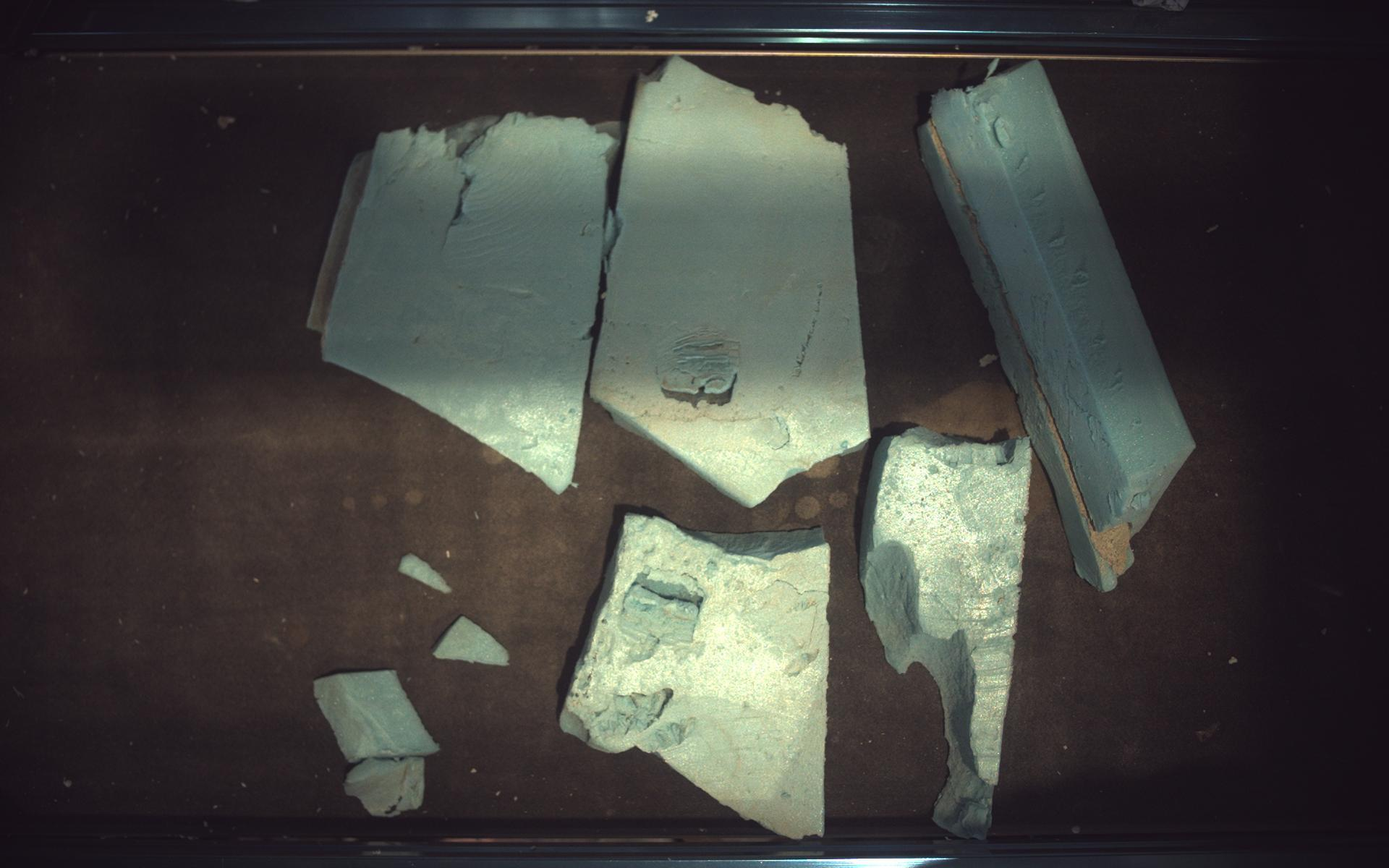foam: (922, 59, 1197, 592), (592, 56, 870, 507), (307, 111, 620, 493), (561, 514, 831, 840), (862, 427, 1034, 841), (313, 671, 439, 764), (345, 759, 425, 818), (433, 617, 509, 667), (399, 554, 452, 595)
